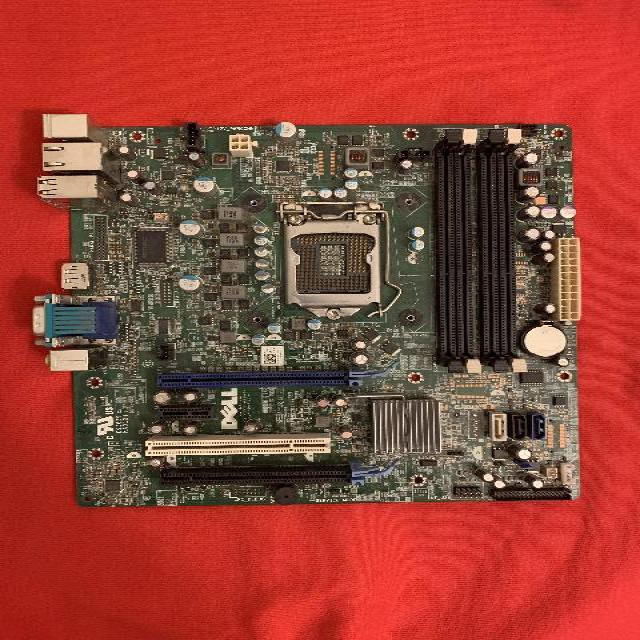Mainboard: (33, 113, 583, 508)
